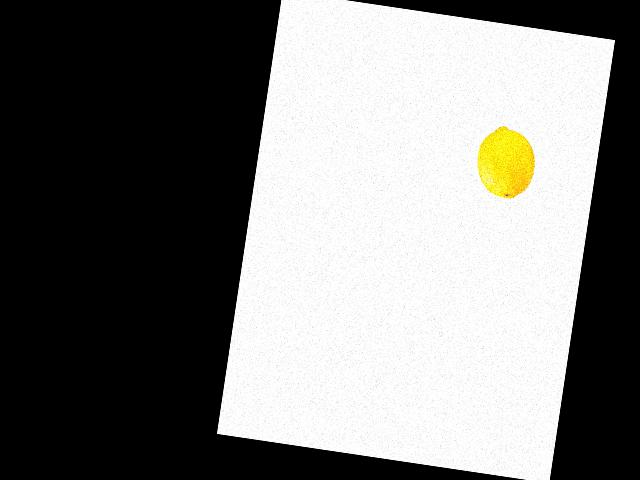lemon: (469, 121, 540, 202)
